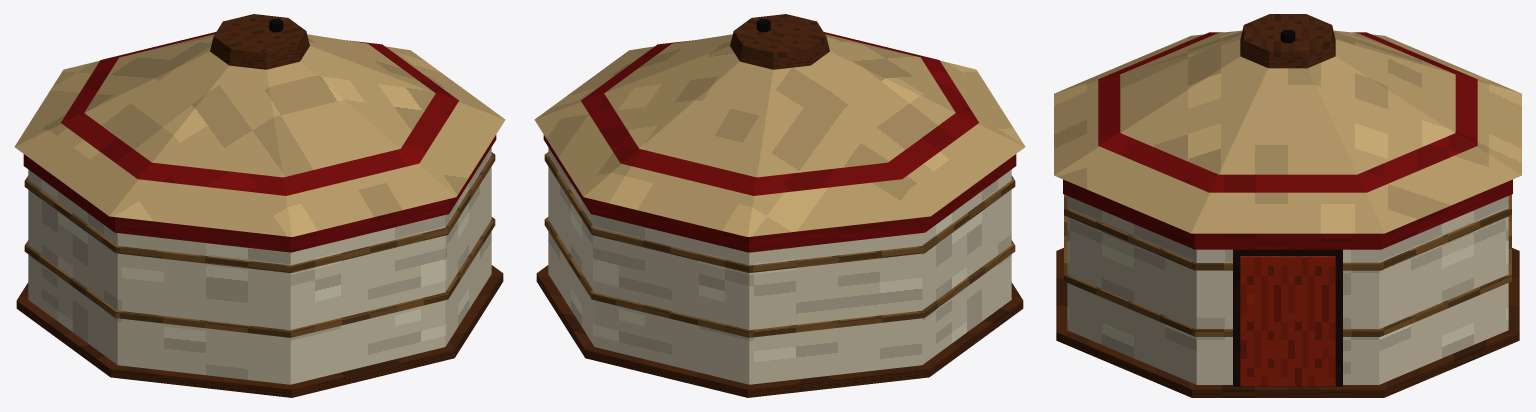
The model's file is enfermeria.glb.
3 renders of one model, left to right at view 1: azimuth 30°, elevation 25°; view 2: azimuth 150°, elevation 25°; view 3: azimuth 270°, elevation 25°, orthographic. The views are drawn at different scales.
Parts seen in each view (by area): view 1: techo, pared, banda, cuerdas, plataforma, corona; view 2: techo, pared, banda, cuerdas, plataforma, corona; view 3: techo, pared, banda, puerta, plataforma, cuerdas, corona, marco.
Boxes of the visible parts, x1=… form: techo: x1=14, y1=34, x2=505, y2=236; pared: x1=28, y1=147, x2=491, y2=384; banda: x1=23, y1=32, x2=496, y2=252; cuerdas: x1=24, y1=152, x2=495, y2=337; plataforma: x1=16, y1=265, x2=503, y2=397; corona: x1=210, y1=14, x2=309, y2=69; techo: x1=534, y1=34, x2=1025, y2=236; pared: x1=548, y1=147, x2=1011, y2=384; banda: x1=543, y1=32, x2=1016, y2=252; cuerdas: x1=544, y1=152, x2=1015, y2=337; plataforma: x1=536, y1=265, x2=1023, y2=397; corona: x1=730, y1=14, x2=829, y2=69; techo: x1=1054, y1=30, x2=1521, y2=233; pared: x1=1067, y1=196, x2=1508, y2=384; banda: x1=1063, y1=32, x2=1512, y2=249; puerta: x1=1240, y1=256, x2=1335, y2=386; plataforma: x1=1056, y1=248, x2=1519, y2=397; cuerdas: x1=1064, y1=194, x2=1511, y2=336; corona: x1=1240, y1=14, x2=1335, y2=68; marco: x1=1233, y1=249, x2=1342, y2=386.
Bounding box in the file's own units: 4 × 2.6 × 4.
1 material, 1 textured.
